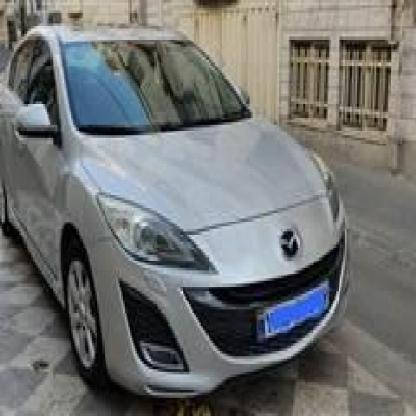Car: (0, 18, 347, 411)
